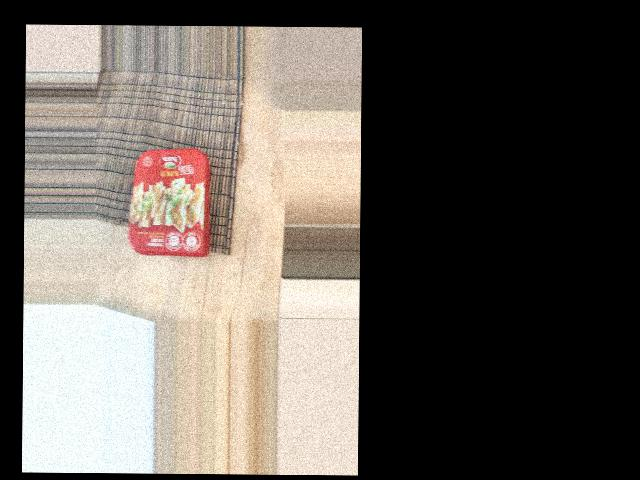cheese: (122, 140, 197, 258)
